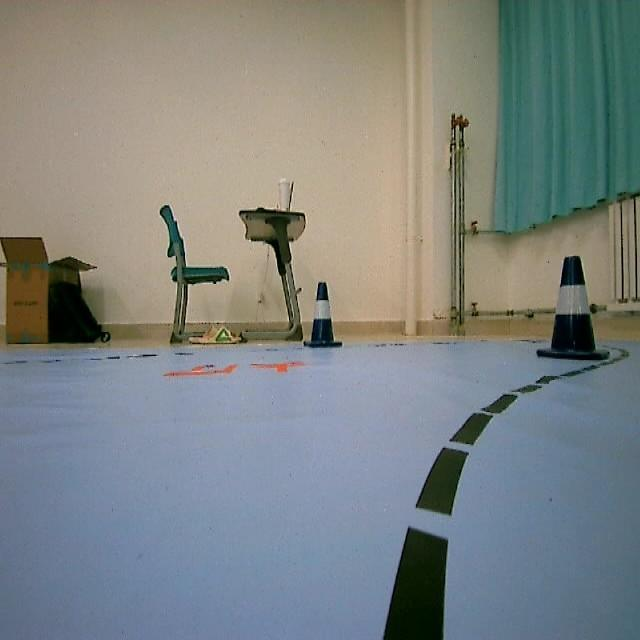obstacle: (542, 253, 601, 359), (306, 280, 342, 348)
